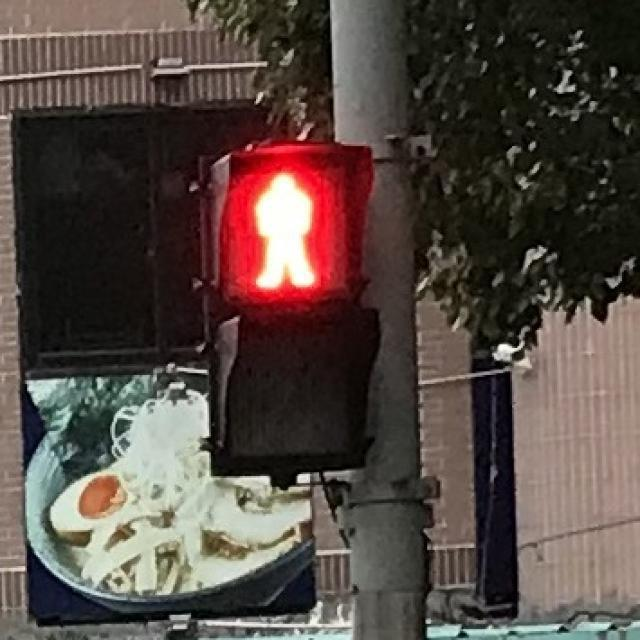red-crossing: (218, 157, 352, 294)
